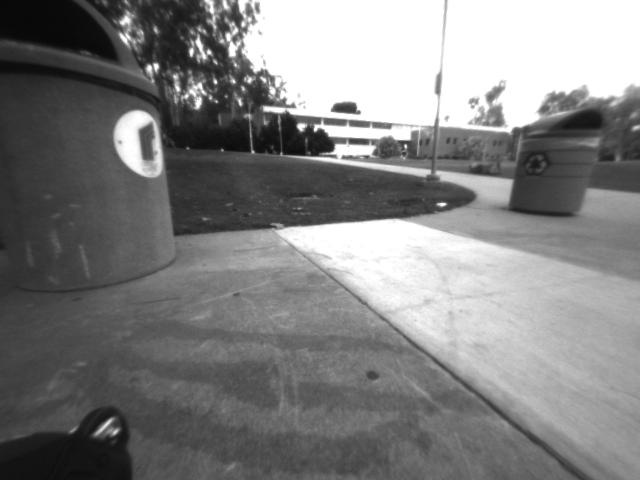trashcan: (1, 1, 190, 302)
